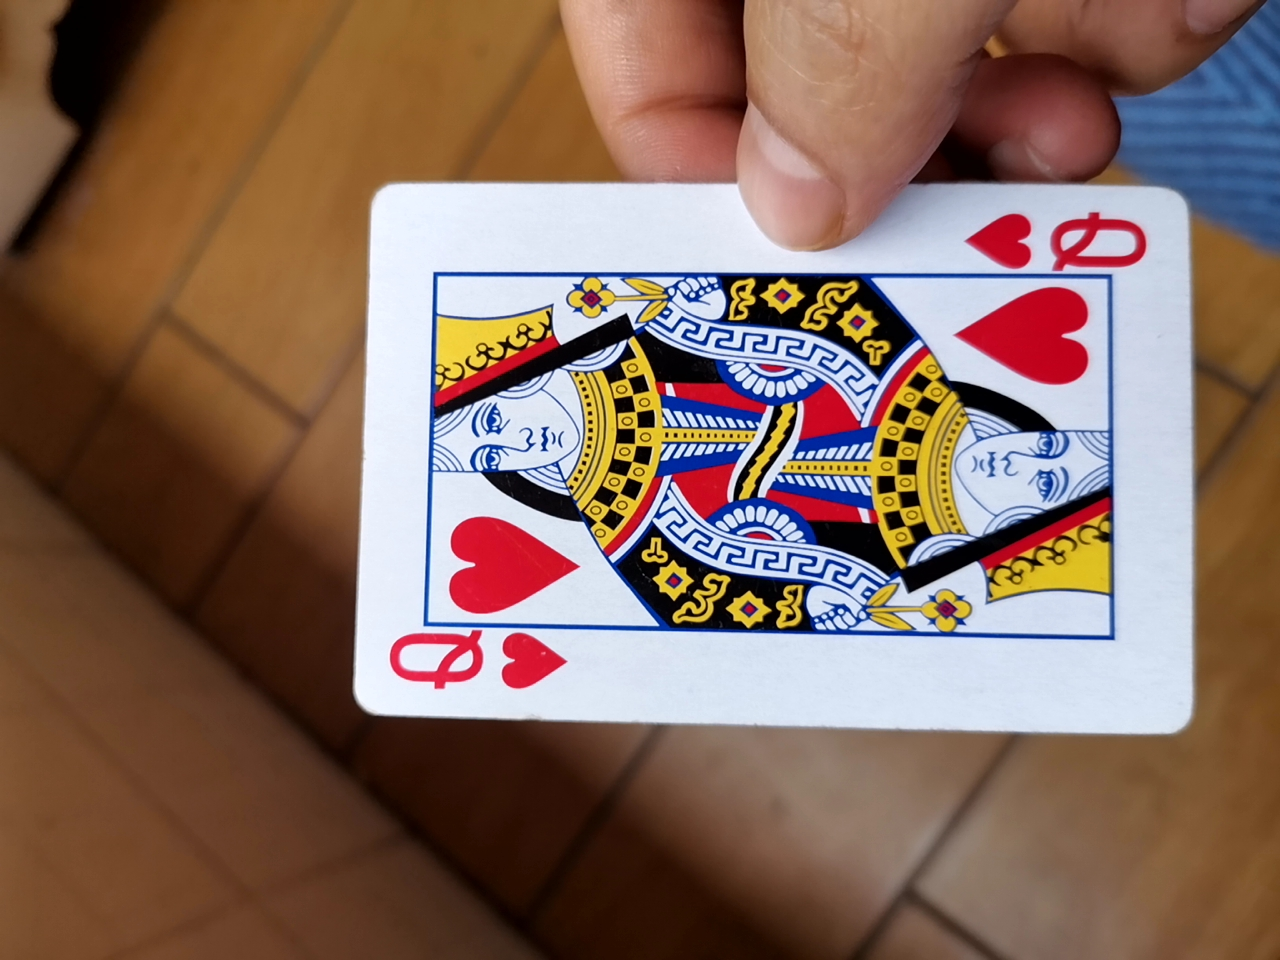hx q: (321, 166, 1194, 737)
